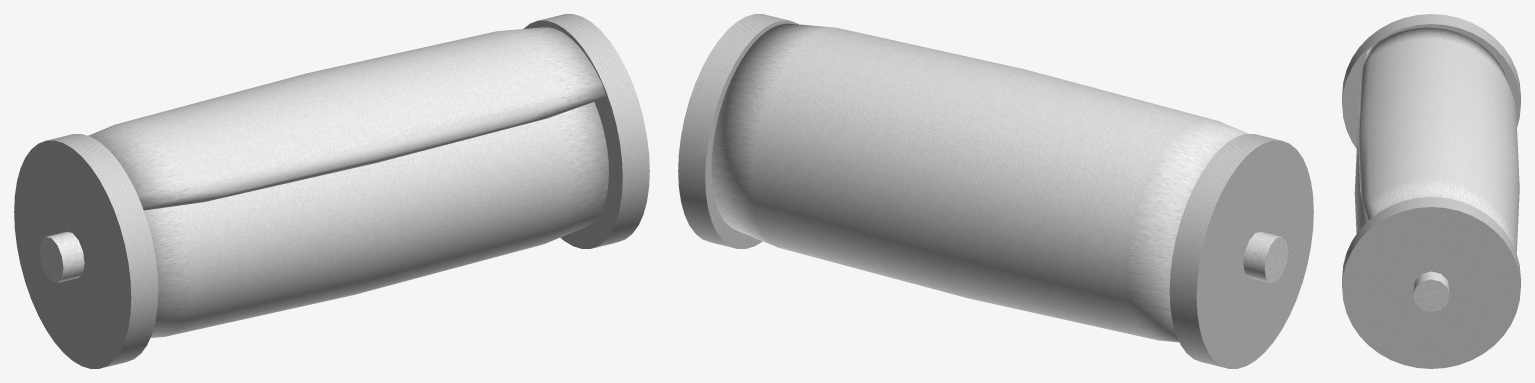
The model's file is towel_roll.glb.
3 views of the same model, side by side, from view 1: azimuth 30°, elevation 25°; view 2: azimuth 150°, elevation 25°; view 3: azimuth 270°, elevation 25° (orthographic). The views are drawn at different scales.
Parts seen in each view (by area): view 1: towel, towel_band-10.9, towel_band10.9, towel_core; view 2: towel, towel_band-10.9, towel_band10.9, towel_core; view 3: towel, towel_band10.9, towel_band-10.9, towel_core.
Part boxes in pixels (x1,y1,x2,y2): towel: [88, 27, 608, 337]; towel_band-10.9: [14, 134, 158, 368]; towel_band10.9: [524, 14, 649, 248]; towel_core: [39, 231, 84, 282]; towel: [711, 23, 1248, 342]; towel_band-10.9: [1169, 134, 1313, 368]; towel_band10.9: [678, 14, 798, 248]; towel_core: [1243, 231, 1288, 282]; towel: [1354, 27, 1519, 252]; towel_band10.9: [1342, 197, 1520, 368]; towel_band-10.9: [1342, 14, 1520, 148]; towel_core: [1413, 271, 1449, 312].
Size of the model in its own units: 24.88 by 9.23 by 9.
Materials: 2 (2 with a texture image).
